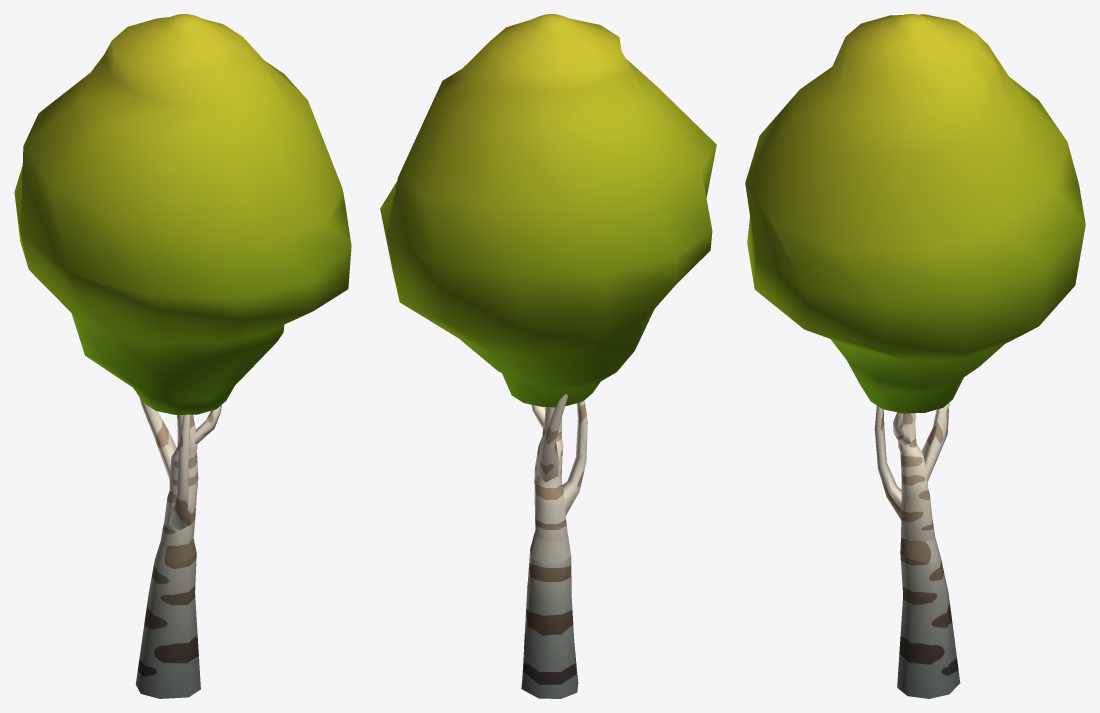
Rendered from BIRCH03.fbx.
3 renders of one model, left to right at view 1: azimuth 30°, elevation 25°; view 2: azimuth 150°, elevation 25°; view 3: azimuth 270°, elevation 25°, orthographic. The views are drawn at different scales.
Visible parts, largest first — view 1: TREE_MAIN_LEAVES, BIRCH03; view 2: TREE_MAIN_LEAVES, BIRCH03; view 3: TREE_MAIN_LEAVES, BIRCH03.
Part boxes in pixels (x1,y1,x2,y2): TREE_MAIN_LEAVES: [14, 14, 351, 414]; BIRCH03: [135, 397, 221, 698]; TREE_MAIN_LEAVES: [380, 14, 716, 406]; BIRCH03: [521, 394, 587, 698]; TREE_MAIN_LEAVES: [745, 14, 1085, 413]; BIRCH03: [874, 403, 960, 698].
Bounding box in the file's own units: 3.3 × 7.26 × 3.34.
